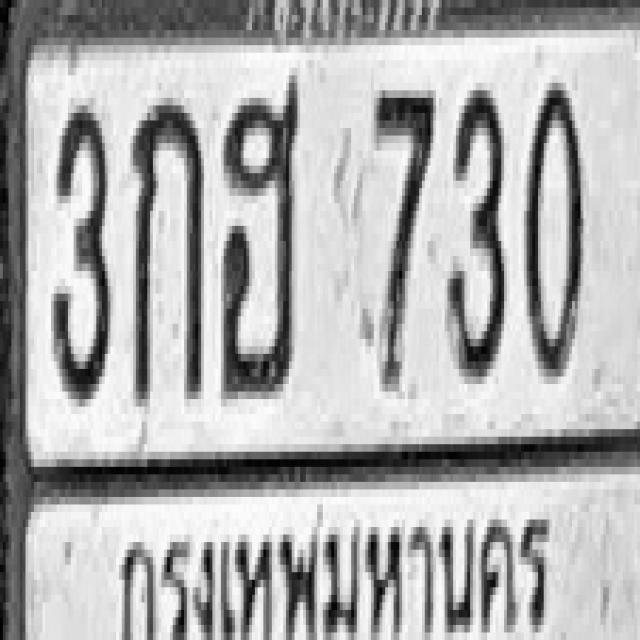0: (524, 71, 583, 372)
10GorGai: (132, 90, 202, 399)
3: (51, 98, 110, 399), (446, 83, 506, 376)
53HorNokHook: (219, 72, 299, 396)
7: (372, 83, 435, 384)
Bangkok: (107, 489, 558, 640)
